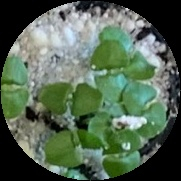Basil: (99, 26, 153, 80), (40, 80, 107, 117), (123, 84, 168, 135), (88, 43, 126, 101), (41, 129, 98, 166), (106, 128, 140, 176), (0, 59, 26, 117)
